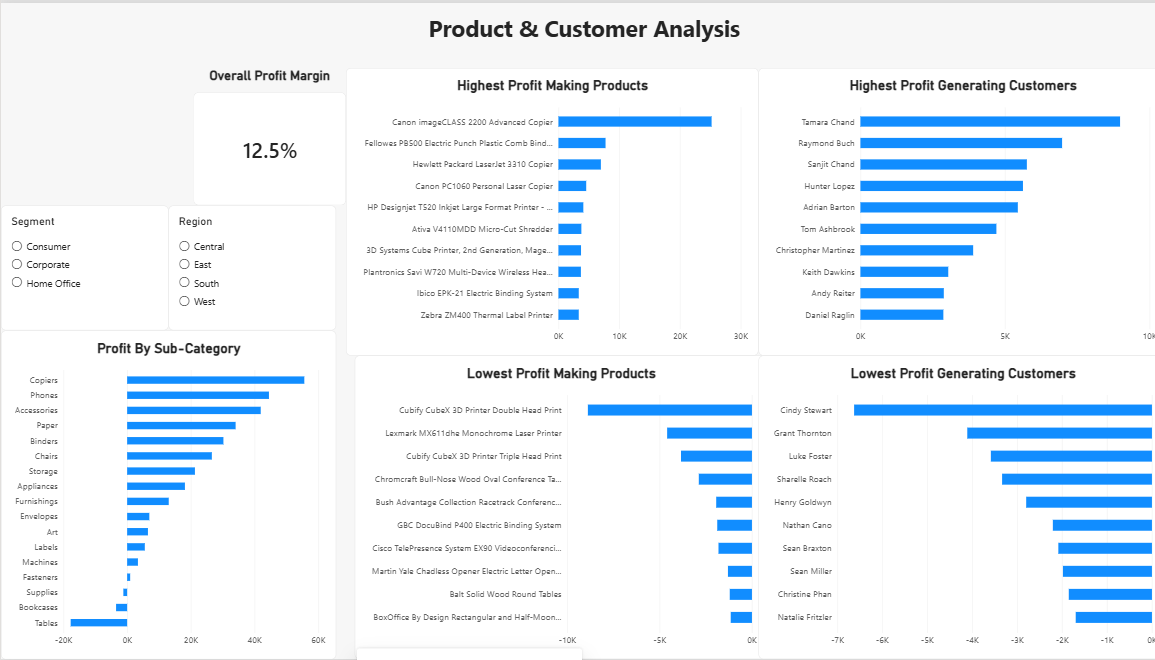

This screenshot's page, from the dashboard's own definition file:
{"tool":"powerbi","page":{"name":"Product and Customer Analysis","canvas":[1920,1080],"ordinal":1},"visuals":[{"type":"clusteredBarChart","title":"Profit By Sub-Category","fields":{"Category":["superstore_cleaned.Sub-Category"],"Y":["Sum(superstore_cleaned.Profit)"]},"box":[0,539.3,551.6,541.3],"z":0},{"type":"clusteredBarChart","title":"Highest Profit Making Products","fields":{"Category":["superstore_cleaned.Product Name"],"Y":["Sum(superstore_cleaned.Profit)"]},"box":[568.1,107,679.2,473.4],"z":1000},{"type":"clusteredBarChart","title":"Lowest Profit Making Products","fields":{"Category":["superstore_cleaned.Product Name"],"Y":["Sum(superstore_cleaned.Profit)"]},"box":[582.5,580.4,679.2,500.2],"z":2000},{"type":"clusteredBarChart","title":"Highest Profit Generating Customers","fields":{"Category":["superstore_cleaned.Customer Name"],"Y":["Sum(superstore_cleaned.Profit)"]},"box":[1247.3,107,673.1,473.4],"z":3000},{"type":"clusteredBarChart","title":"Lowest Profit Generating Customers","fields":{"Category":["superstore_cleaned.Customer Name"],"Y":["Sum(superstore_cleaned.Profit)"]},"box":[1247.3,580.4,673.1,500.2],"z":4000},{"type":"listSlicer","fields":{"Values":["superstore_cleaned.Region"]},"box":[275.8,333.4,275.8,205.8],"z":5000},{"type":"listSlicer","fields":{"Values":["superstore_cleaned.Segment"]},"box":[0,333.4,275.8,205.8],"z":6000},{"type":"cardVisual","title":"Overall Profit Margin","fields":{"Data":["superstore_cleaned.Profit Margin"]},"box":[317,107,251.1,226.4],"z":7000},{"type":"textbox","box":[703.9,16.5,543.4,67.9],"z":8000}]}

Visuals, with their boxes in screenshot pixels (x1, y1, x2, y2), scaled from the page's 1920x1080 canvas onto the 1155x660 screenshot:
"Profit By Sub-Category" clusteredBarChart: 0/330/332/659
"Highest Profit Making Products" clusteredBarChart: 342/65/750/355
"Lowest Profit Making Products" clusteredBarChart: 350/355/759/659
"Highest Profit Generating Customers" clusteredBarChart: 750/65/1154/355
"Lowest Profit Generating Customers" clusteredBarChart: 750/355/1154/659
listSlicer - superstore_cleaned.Region: 166/204/332/330
listSlicer - superstore_cleaned.Segment: 0/204/166/330
"Overall Profit Margin" cardVisual: 191/65/342/204
textbox: 423/10/750/52
